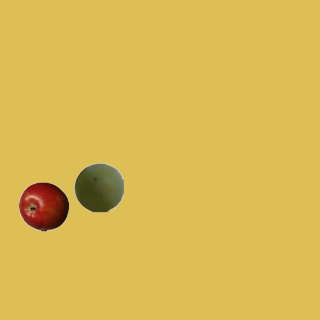Apple Braeburn: (18, 181, 68, 231)
Grape White 4: (73, 162, 123, 212)
